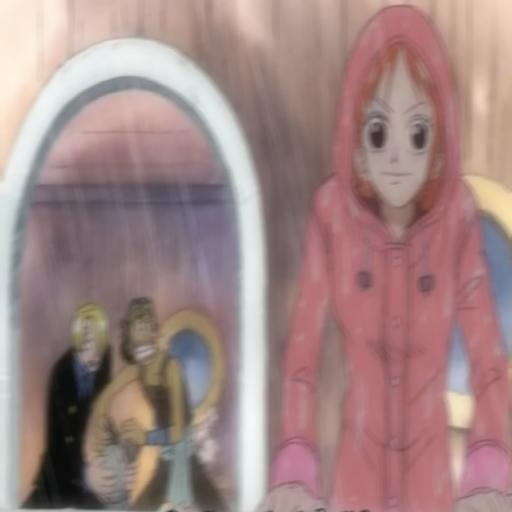Nami: (271, 11, 512, 512)
Usopp: (94, 296, 236, 512)
sanji: (23, 294, 117, 512)
